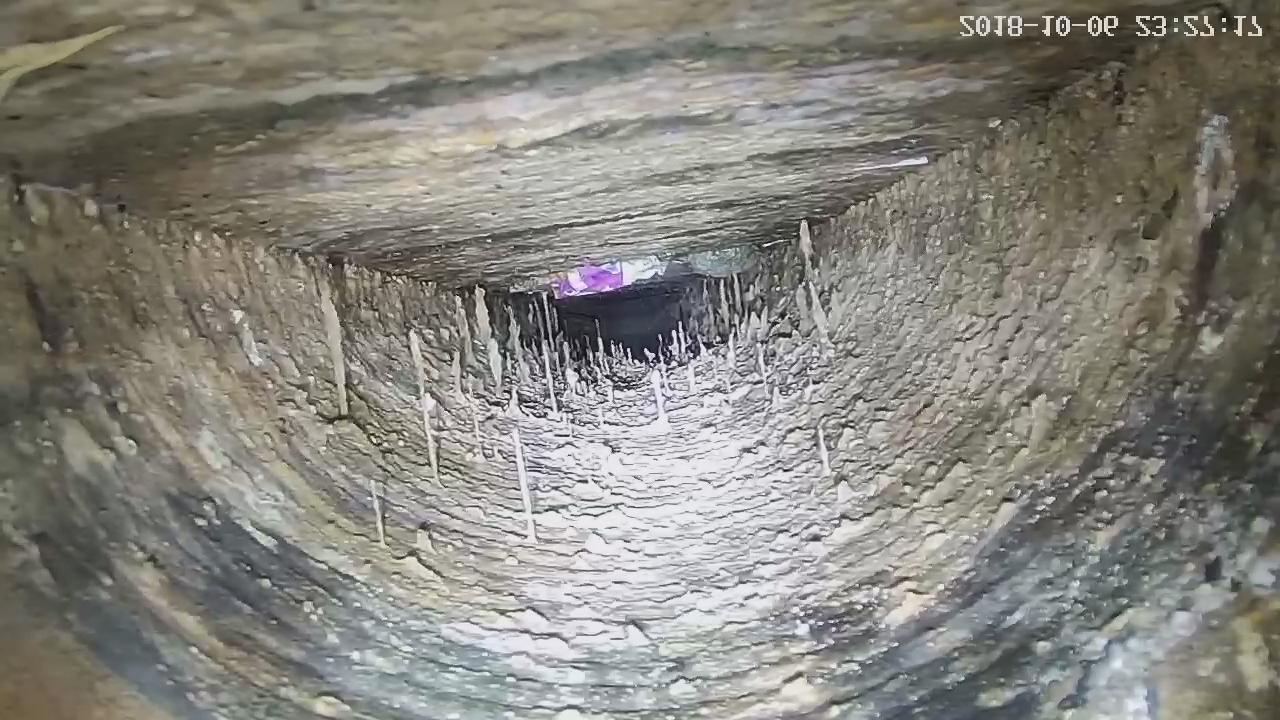FZ: (0, 1, 1208, 297)
JG: (0, 47, 1279, 720)
